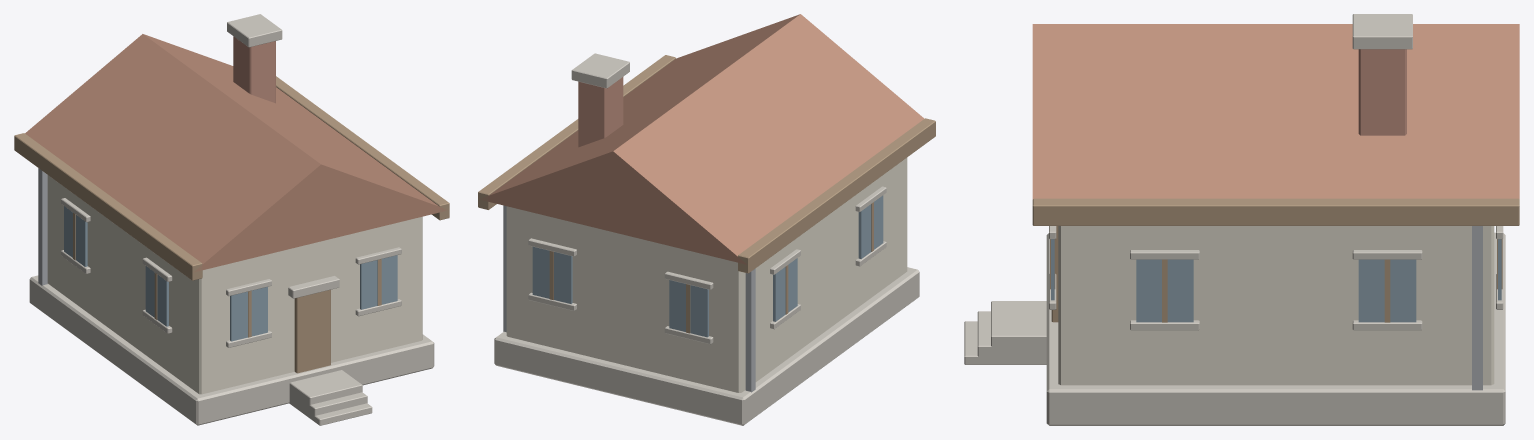
File: residential_0.glb
3 views of the same model, side by side, from view 1: azimuth 30°, elevation 25°; view 2: azimuth 150°, elevation 25°; view 3: azimuth 270°, elevation 25° (orthographic). The views are drawn at different scales.
Visible parts, largest first — view 1: Roof with deep eaves, Main inhabited volume, Stone footing, Fascia, Door, Chimney shaft, Fascia.001, Entrance steps, Recessed glazing, Recessed glazing.002, Chimney cap, Drainpipe (+5 smaller); view 2: Roof with deep eaves, Main inhabited volume, Stone footing, Fascia, Chimney shaft, Fascia.001, Recessed glazing.003, Recessed glazing.001, Chimney cap, Drainpipe, Recessed glazing.004, Recessed glazing.006 (+1 smaller); view 3: Roof with deep eaves, Main inhabited volume, Stone footing, Fascia.001, Chimney shaft, Recessed glazing.007, Recessed glazing.005, Entrance steps, Chimney cap, Drainpipe.001, Entrance steps.001, Entrance steps.002 (+4 smaller).
Boxes of the visible parts, x1=… form: Roof with deep eaves: x1=25, y1=34, x2=447, y2=272; Main inhabited volume: x1=47, y1=175, x2=422, y2=394; Stone footing: x1=29, y1=275, x2=434, y2=425; Fascia: x1=14, y1=133, x2=202, y2=280; Door: x1=294, y1=289, x2=330, y2=373; Chimney shaft: x1=233, y1=36, x2=275, y2=103; Fascia.001: x1=276, y1=76, x2=449, y2=220; Entrance steps: x1=289, y1=370, x2=362, y2=417; Recessed glazing: x1=230, y1=287, x2=267, y2=341; Recessed glazing.002: x1=360, y1=255, x2=397, y2=309; Chimney cap: x1=227, y1=14, x2=282, y2=47; Drainpipe: x1=38, y1=168, x2=47, y2=285; Roof with deep eaves: x1=479, y1=14, x2=924, y2=264; Main inhabited volume: x1=506, y1=157, x2=907, y2=392; Stone footing: x1=494, y1=267, x2=919, y2=425; Fascia: x1=738, y1=118, x2=935, y2=273; Chimney shaft: x1=578, y1=77, x2=623, y2=147; Fascia.001: x1=478, y1=55, x2=675, y2=209; Recessed glazing.003: x1=532, y1=246, x2=572, y2=303; Recessed glazing.001: x1=669, y1=280, x2=708, y2=337; Chimney cap: x1=571, y1=53, x2=629, y2=88; Drainpipe: x1=745, y1=268, x2=755, y2=392; Recessed glazing.004: x1=858, y1=195, x2=883, y2=258; Recessed glazing.006: x1=773, y1=258, x2=797, y2=321; Roof with deep eaves: x1=1032, y1=24, x2=1519, y2=199; Main inhabited volume: x1=1058, y1=226, x2=1494, y2=385; Stone footing: x1=1046, y1=232, x2=1505, y2=425; Fascia.001: x1=1032, y1=198, x2=1519, y2=225; Chimney shaft: x1=1358, y1=49, x2=1406, y2=135; Recessed glazing.007: x1=1358, y1=259, x2=1416, y2=322; Recessed glazing.005: x1=1136, y1=259, x2=1193, y2=322; Entrance steps: x1=991, y1=301, x2=1046, y2=364; Chimney cap: x1=1352, y1=14, x2=1412, y2=49; Drainpipe.001: x1=1472, y1=226, x2=1482, y2=390; Entrance steps.001: x1=977, y1=311, x2=1046, y2=364; Entrance steps.002: x1=964, y1=321, x2=1032, y2=364.
Size of the model in its own units: 0.438 by 0.433 by 0.5988.
